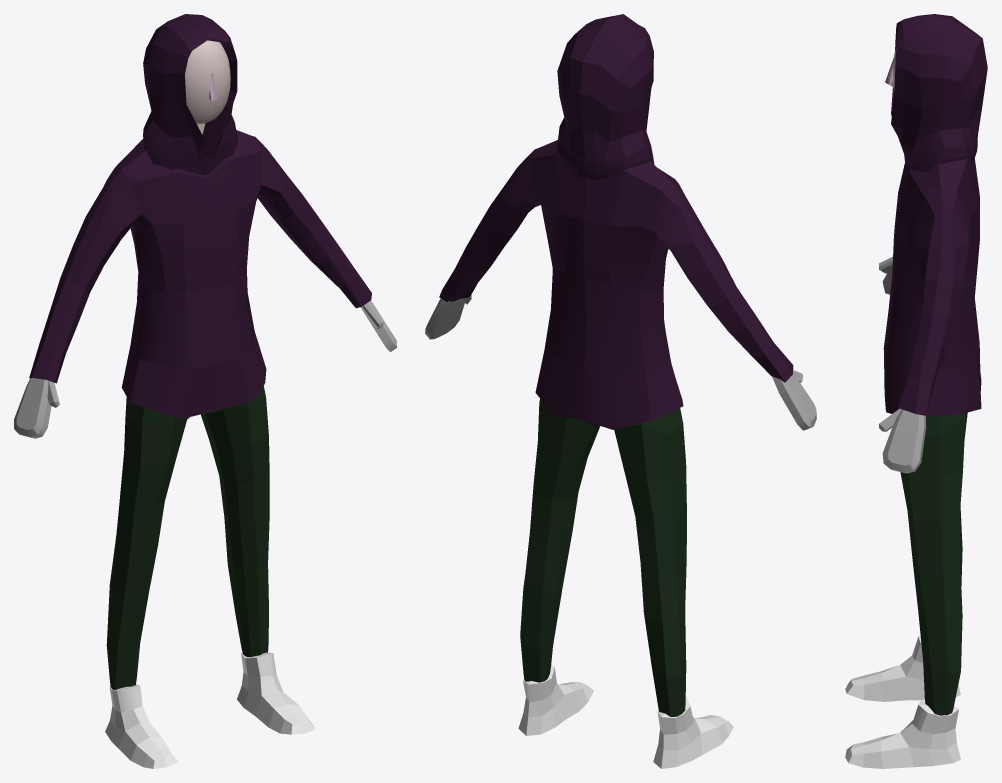
The model's file is LowPolyOzCorrections.fbx.
3 renders of one model, left to right at view 1: azimuth 30°, elevation 25°; view 2: azimuth 150°, elevation 25°; view 3: azimuth 270°, elevation 25°, orthographic. The views are drawn at different scales.
Visible parts, largest first — view 1: head; view 2: head; view 3: head.
Boxes of the visible parts, bbox=[...] form: head: bbox=[14, 14, 396, 768]; head: bbox=[425, 14, 816, 768]; head: bbox=[845, 14, 987, 768].
Bounding box in the file's own units: 0.1018 × 0.1829 × 0.0331.
